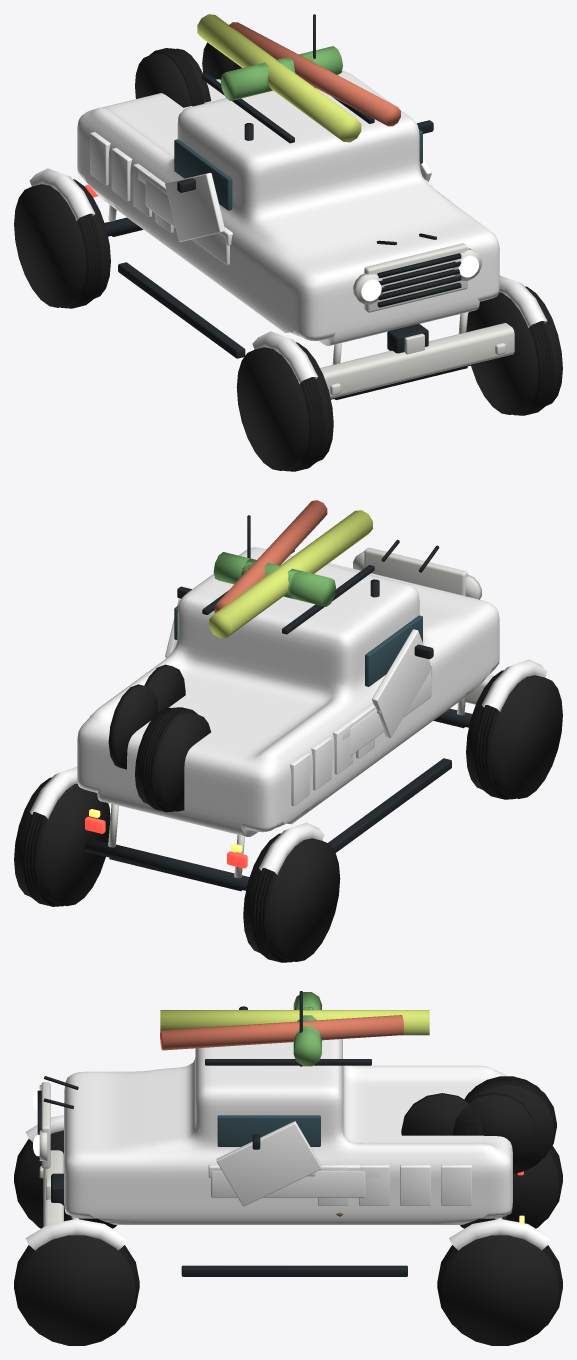
File: pickup.glb
The picture shows the model from 3 angles, top to bottom: view 1: azimuth 30°, elevation 25°; view 2: azimuth 150°, elevation 25°; view 3: azimuth 270°, elevation 25°; orthographic projection. The views are drawn at different scales.
Visible parts, largest first — view 1: Body, LOD_Body, Wheel0_tire, Wheel2_tire, Wheel1_tire, Det_bumper, Acc_kayak, Acc_kayakb, Accent_chevron.001, Acc_spare_tire, Det_grille, Det_slider (+16 smaller); view 2: Body, LOD_Body, Wheel0_tire, Wheel2_tire, Wheel3_tire, Acc_kayak, Acc_spare_tire, Accent_chevron.001, Acc_kayakb, Det_grille, Det_axler, Acc_bike (+17 smaller); view 3: Body, LOD_Body, Wheel1_tire, Wheel3_tire, Accent_chevron, Acc_kayakb, Acc_kayak, Acc_bike, Det_slider.001, Wheel2_tire, Accent_thick, Acc_bikeb (+17 smaller).
Boxes of the visible parts, x1,y1,x2,y2 form: Body: (77,71,499,345); LOD_Body: (77,71,499,345); Wheel0_tire: (236,342,333,470); Wheel2_tire: (14,179,110,307); Wheel1_tire: (466,286,562,414); Det_bumper: (320,323,514,398); Acc_kayak: (197,14,361,142); Acc_kayakb: (228,22,400,126); Accent_chevron.001: (165,173,225,241); Acc_spare_tire: (135,48,211,107); Det_grille: (364,243,467,312); Det_slider: (118,262,245,358); Body: (77,550,499,836); LOD_Body: (77,547,499,836); Wheel0_tire: (466,670,562,798); Wheel2_tire: (243,833,340,961); Wheel3_tire: (14,777,110,905); Acc_kayak: (209,510,372,638); Acc_spare_tire: (135,707,210,811); Accent_chevron.001: (372,629,431,737); Acc_kayakb: (214,500,327,612); Det_grille: (364,547,467,595); Det_axler: (84,838,249,890); Acc_bike: (108,684,158,769); Body: (64,1039,512,1224); LOD_Body: (64,1042,512,1224); Wheel1_tire: (17,1235,135,1345); Wheel3_tire: (441,1235,559,1345); Accent_chevron: (216,1121,321,1206); Acc_kayakb: (160,1015,403,1050); Acc_kayak: (160,1010,429,1035); Acc_bike: (452,1093,534,1165); Det_slider.001: (181,1265,407,1276); Wheel2_tire: (460,1152,559,1228); Accent_thick: (211,1171,365,1197); Acc_bikeb: (401,1093,483,1135).
Bounding box in the file's own units: 2.26 × 2.68 × 4.28.
